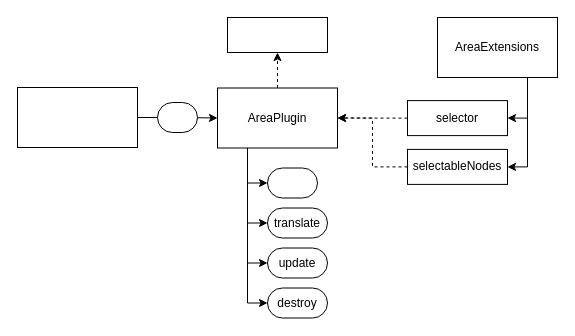
Image size: 575x336. Some labels were removed from this diagram. The centre of each missing label's shape, as x and y in pixels:
html element: the point at 277,34
NodeEditor: the point at 77,117
resize: the point at 292,182
use: the point at 177,117
